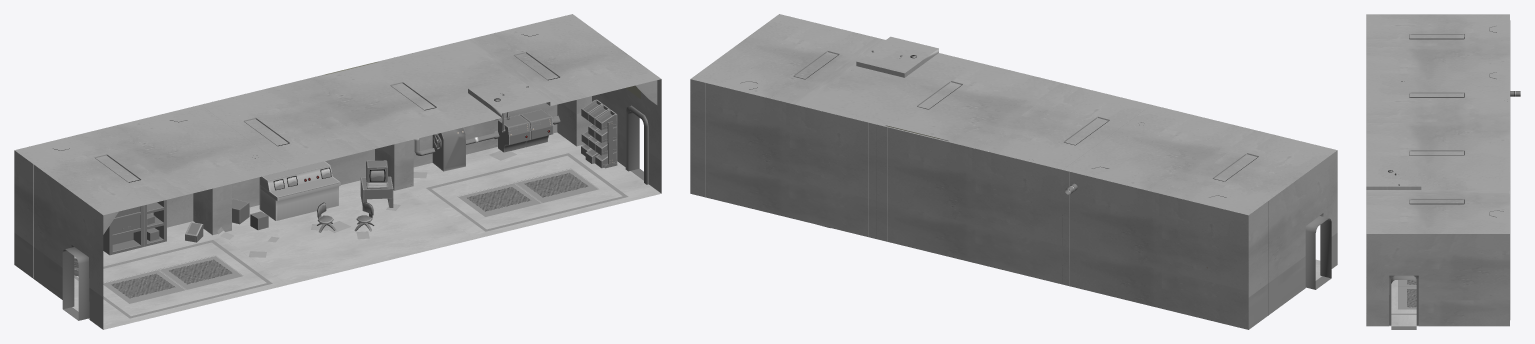
The model's file is MSH_QuestVault_L4_R3_optimized.fbx.
3 renders of one model, left to right at view 1: azimuth 30°, elevation 25°; view 2: azimuth 150°, elevation 25°; view 3: azimuth 270°, elevation 25°, orthographic. The views are drawn at different scales.
Parts seen in each view (by area): view 1: lightmap1, lightmap4, lightmap2, lightmap3, lightmap0, MSH_QuestVault_L4_R3_papers_01; view 2: lightmap2, lightmap1, lightmap0; view 3: lightmap1, lightmap2, lightmap4, lightmap3, lightmap0.
Part boxes in pixels (left/top/right/bottom): lightmap1: left=14, top=14, right=661, bottom=318; lightmap4: left=72, top=132, right=661, bottom=329; lightmap2: left=14, top=79, right=661, bottom=329; lightmap3: left=103, top=168, right=598, bottom=303; lightmap0: left=62, top=111, right=643, bottom=320; MSH_QuestVault_L4_R3_papers_01: left=74, top=150, right=516, bottom=288; lightmap2: left=690, top=79, right=1337, bottom=329; lightmap1: left=690, top=14, right=1337, bottom=228; lightmap0: left=1207, top=216, right=1331, bottom=289; lightmap1: left=1366, top=14, right=1520, bottom=325; lightmap2: left=1366, top=20, right=1510, bottom=326; lightmap4: left=1389, top=280, right=1418, bottom=326; lightmap3: left=1398, top=280, right=1416, bottom=309; lightmap0: left=1391, top=275, right=1416, bottom=329.
Bounding box in the file's own units: 30.91 × 6.22 × 8.86.
